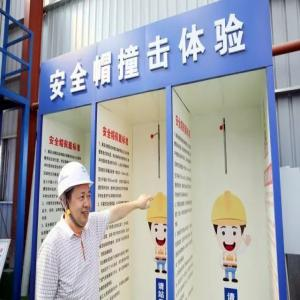white: (55, 160, 96, 232)
